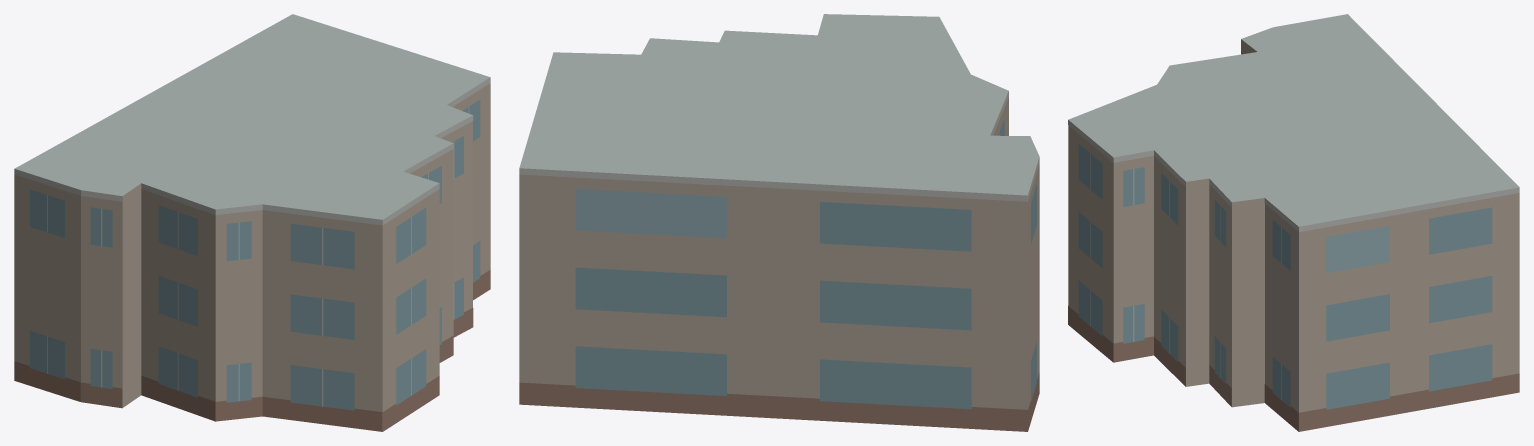
File: survey-upis-32714243.glb
The picture shows the model from 3 angles, left to right: view 1: azimuth 30°, elevation 25°; view 2: azimuth 150°, elevation 25°; view 3: azimuth 270°, elevation 25°; orthographic projection. The views are drawn at different scales.
Parts seen in each view (by area): view 1: survey-upis-32714243.tmp; view 2: survey-upis-32714243.tmp; view 3: survey-upis-32714243.tmp.
Part boxes in pixels (<box>): survey-upis-32714243.tmp: <box>14,14,490,431</box>; survey-upis-32714243.tmp: <box>519,14,1039,431</box>; survey-upis-32714243.tmp: <box>1068,14,1519,431</box>.
Size of the model in its own units: 20.37 by 9.15 by 18.27.
